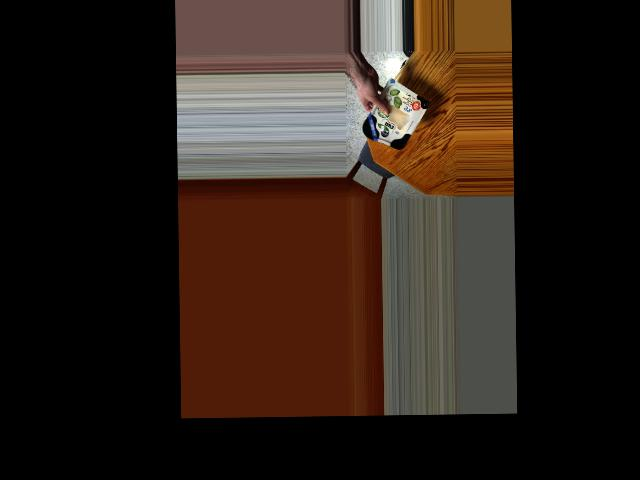cheese: (361, 87, 424, 155)
